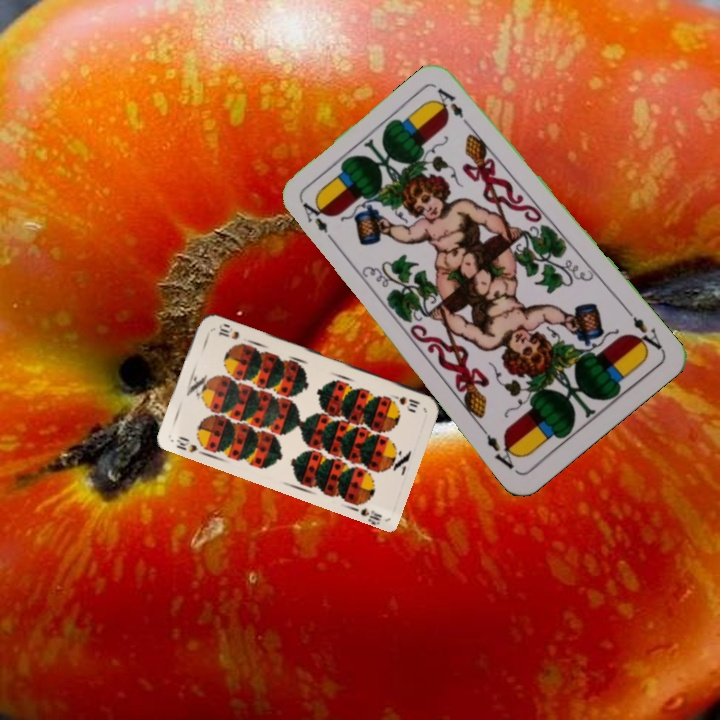EA: (622, 306, 666, 356), (298, 198, 339, 248)
S10: (172, 432, 208, 458), (386, 390, 423, 410)
